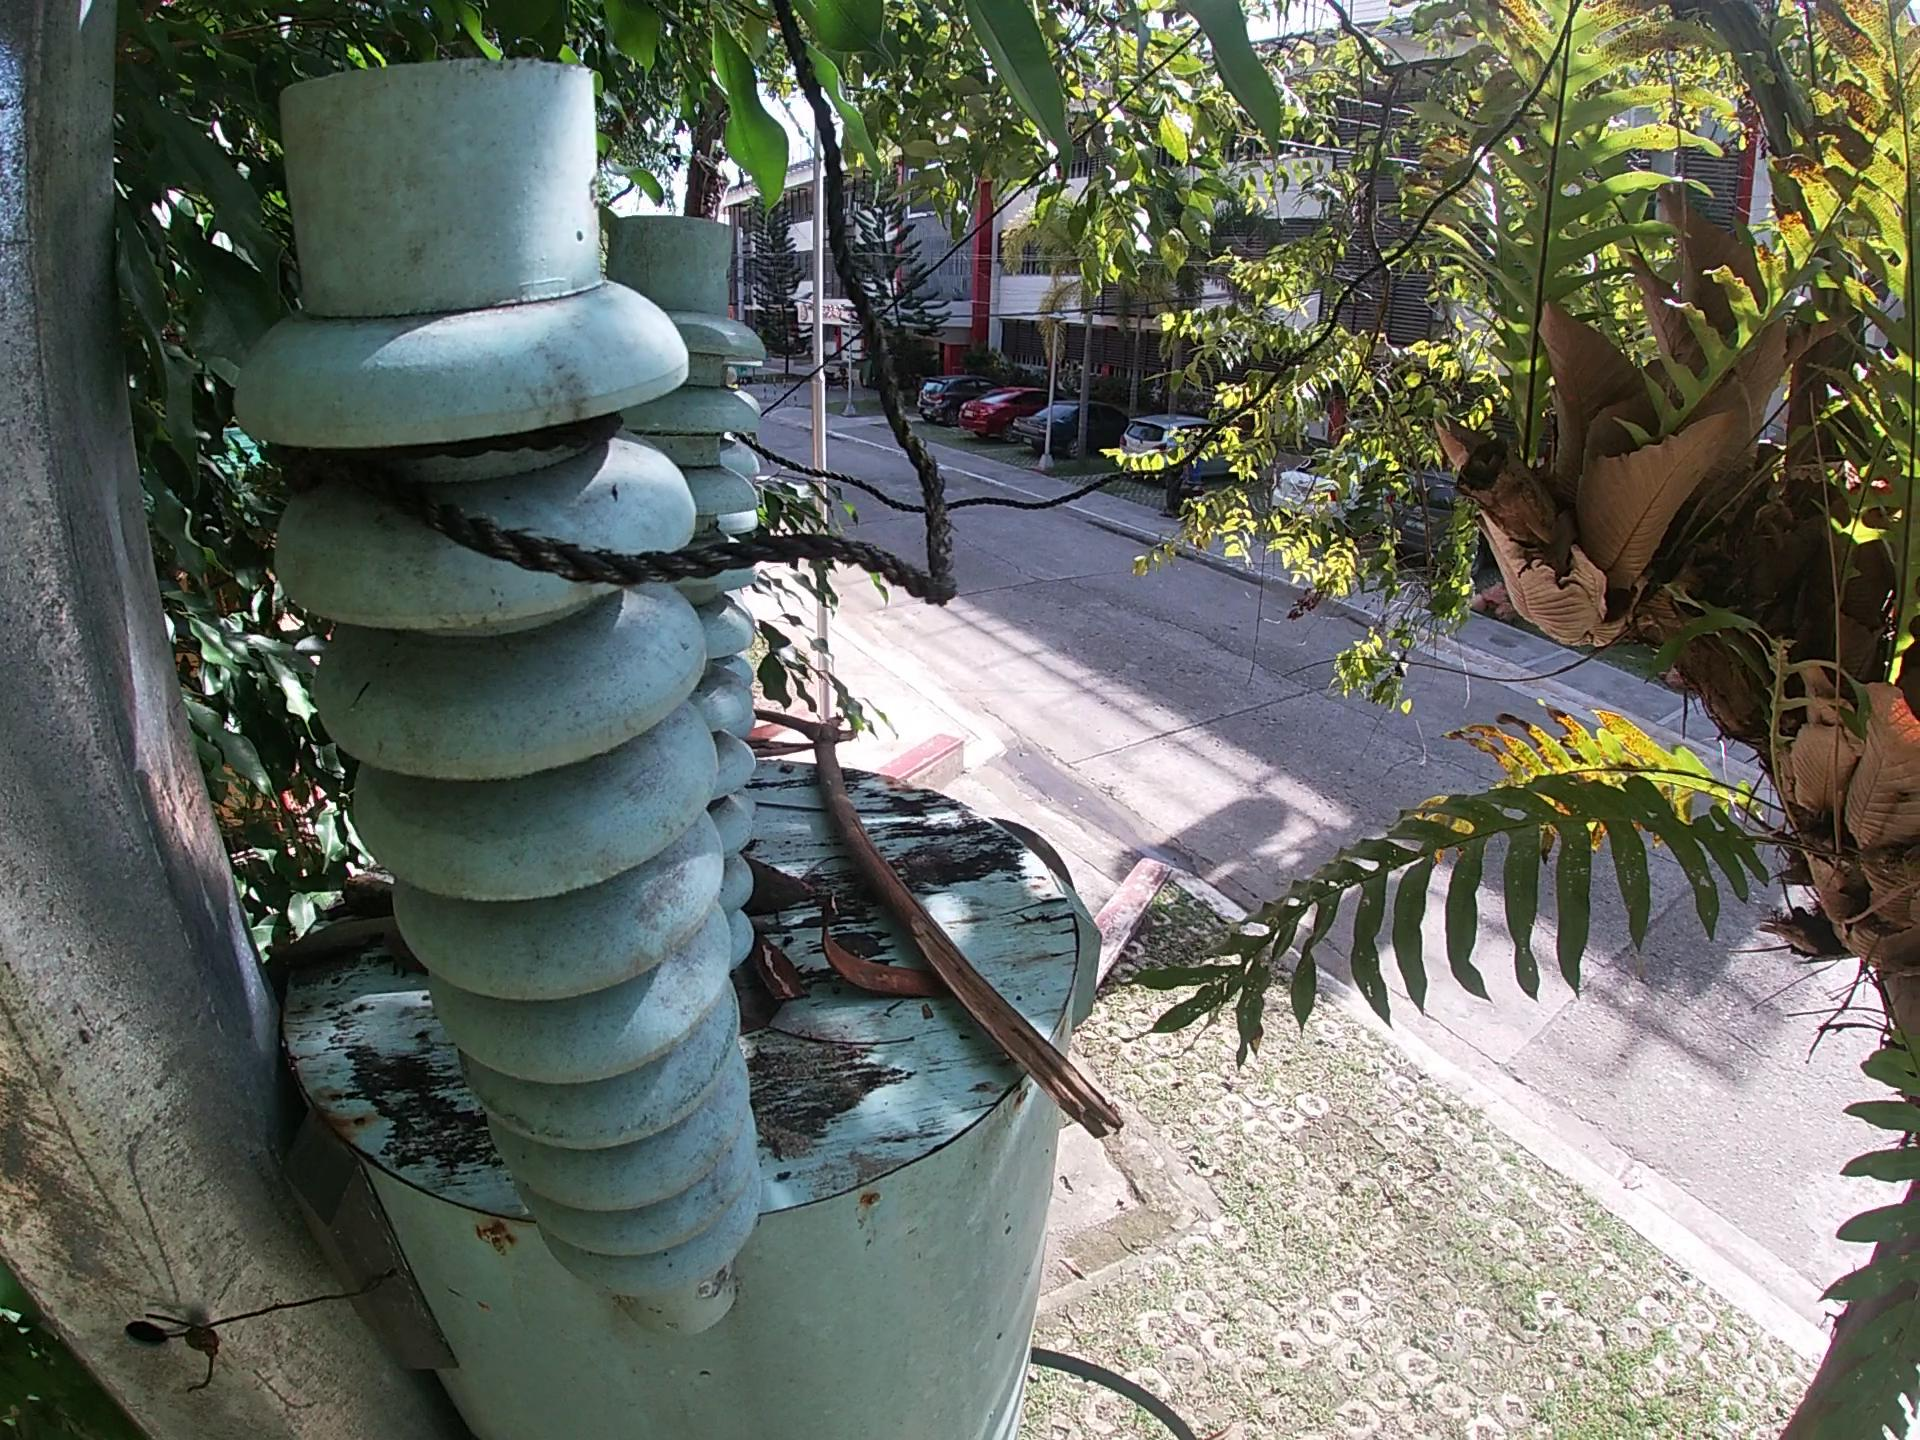mahogany fruit: (807, 902, 948, 1001), (748, 921, 807, 1021), (738, 858, 822, 917)
tree branch: (748, 700, 1126, 1147), (263, 914, 404, 982), (747, 732, 824, 771), (343, 868, 401, 911)
